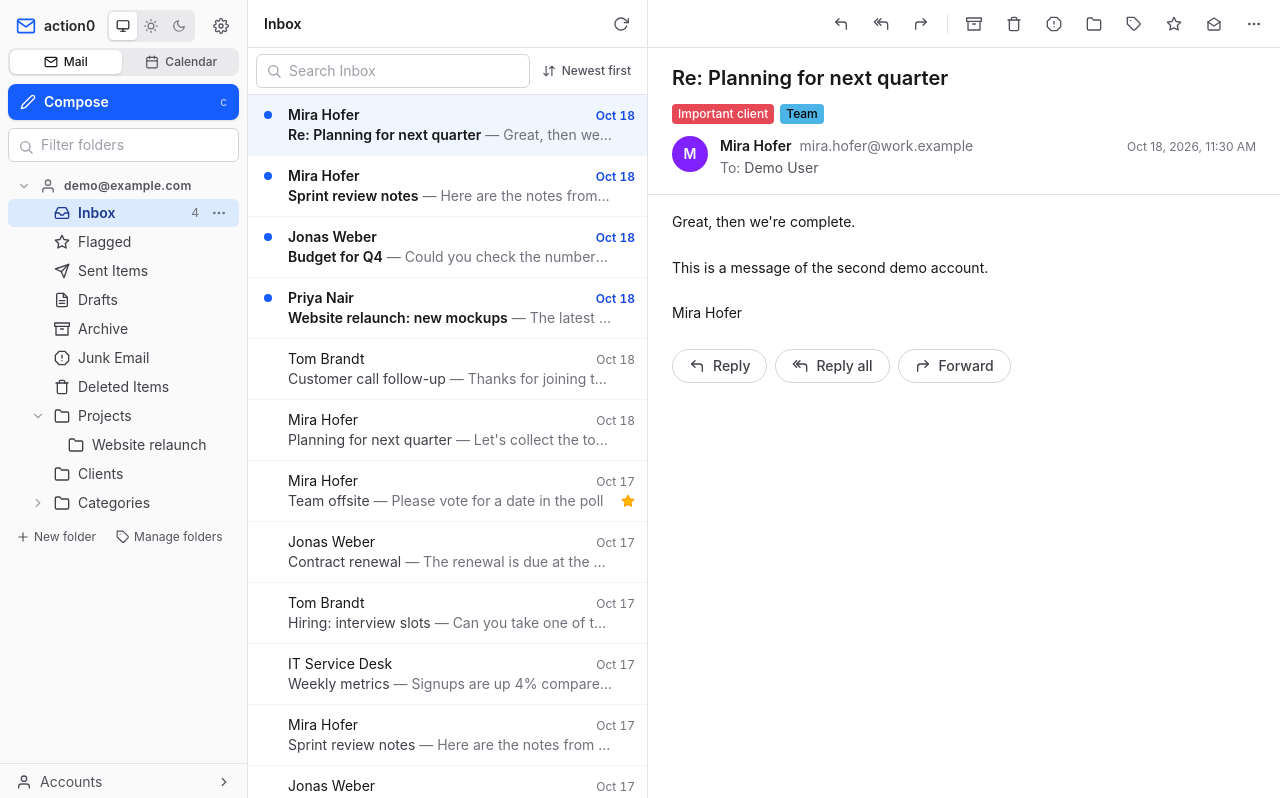
Outlook categories › shows them in their group and as chips, and lists a category's mail
Check: the list items read "Important client", "Team", in this order, box left=672, top=104, right=774, bottom=124; left=780, top=104, right=824, bottom=124
Step 1. Click the list item "Categories" → coordinates (90, 502), box left=31, top=494, right=150, bottom=511
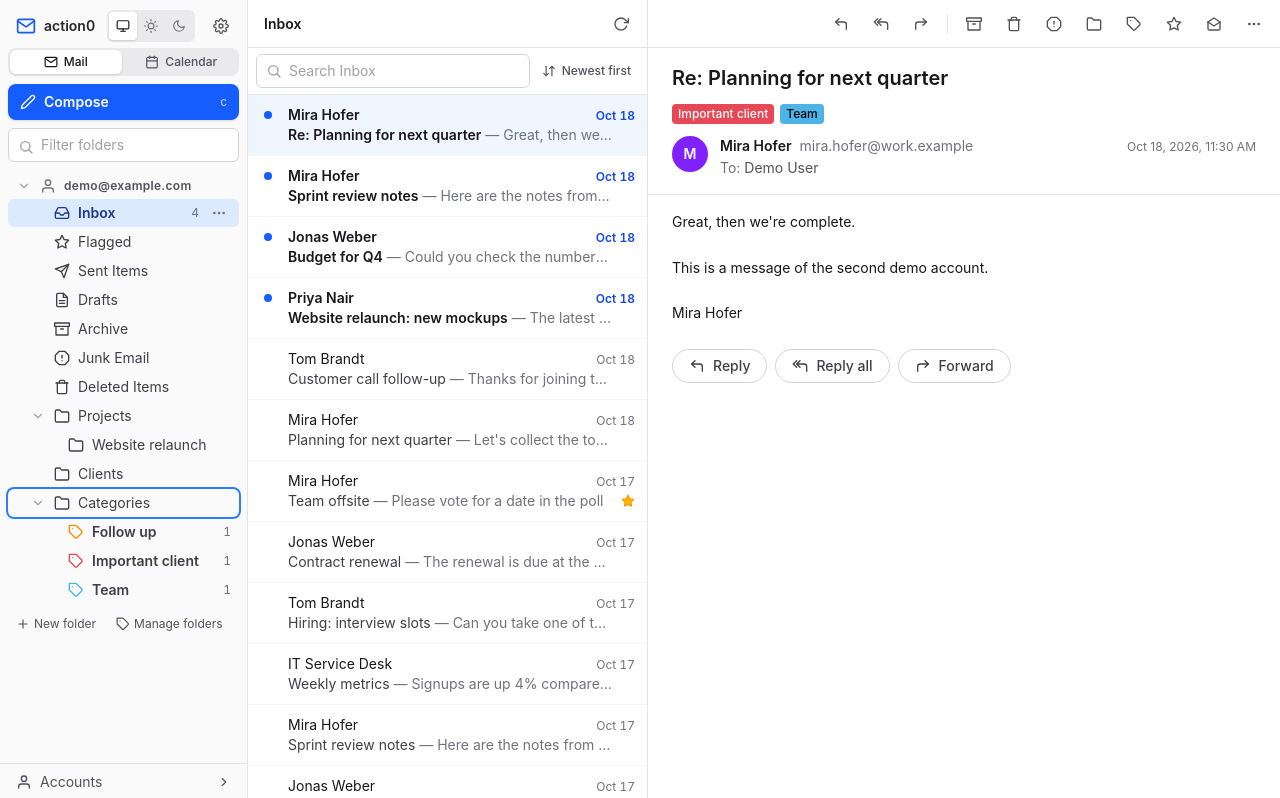
Step 2. Click the list item "Team 1" → coordinates (124, 590), box left=8, top=576, right=239, bottom=604
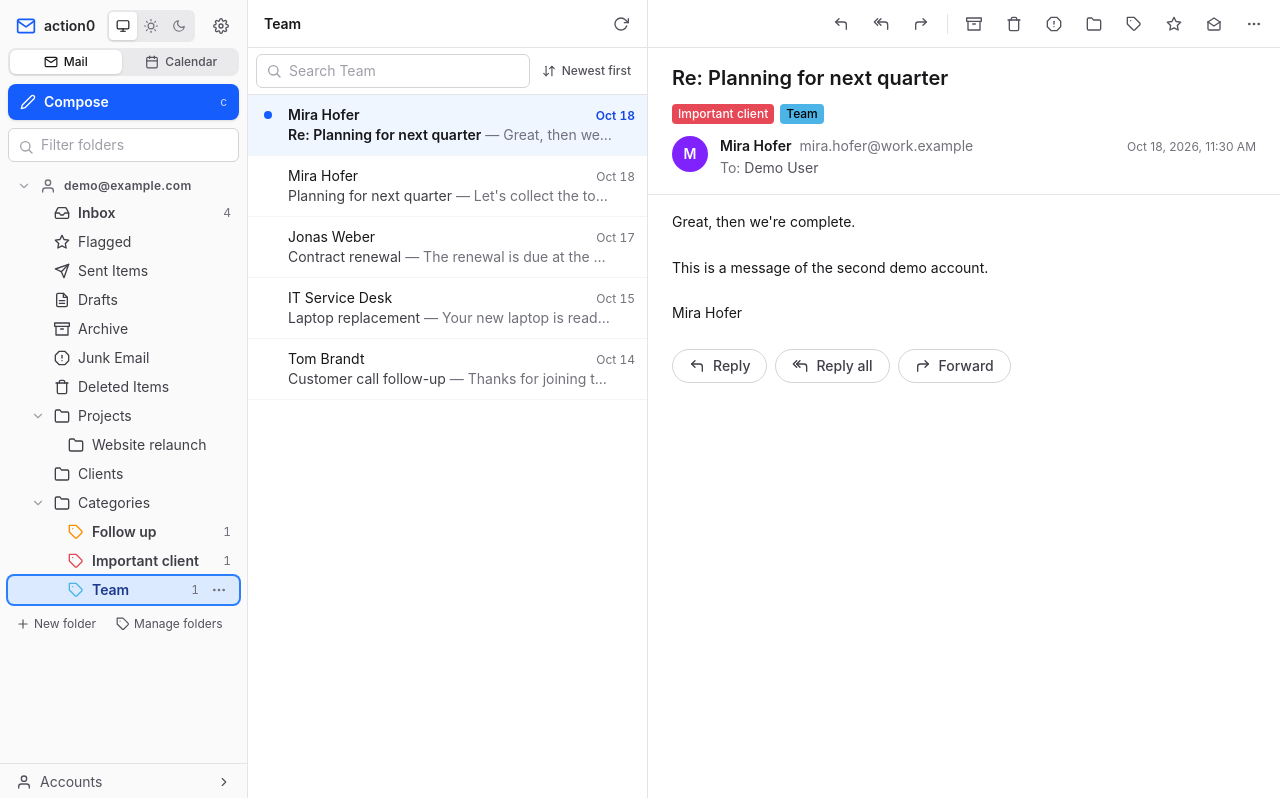
Check: the 2nd option is shown, box left=248, top=156, right=647, bottom=217
Check: the heading "Team" is shown, box left=264, top=14, right=301, bottom=32
